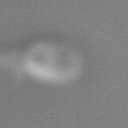normal: (1, 42, 25, 78)
